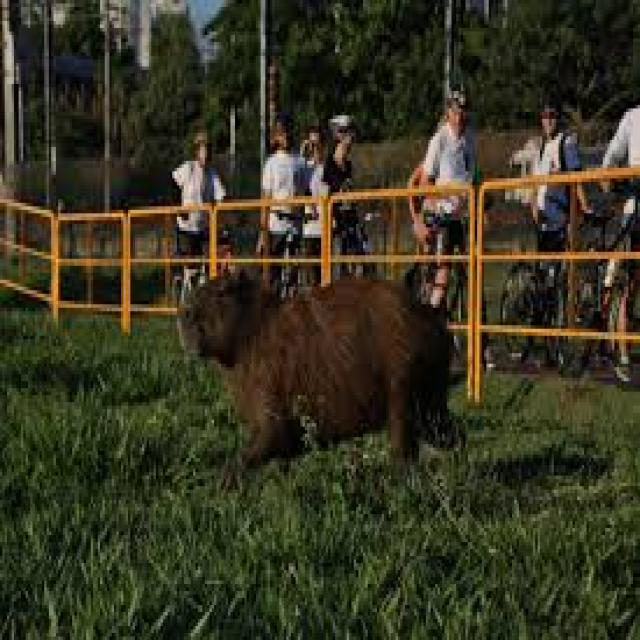capy: (178, 259, 438, 470)
